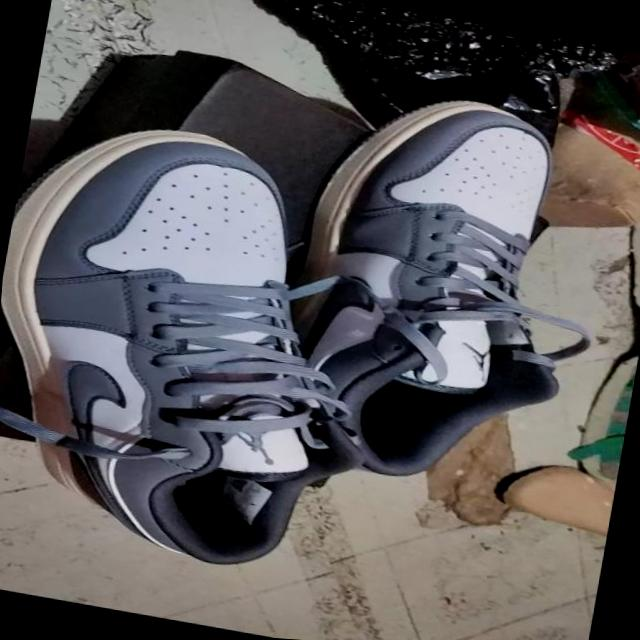nike_fake_jordan: (0, 101, 372, 582), (263, 70, 615, 504)
